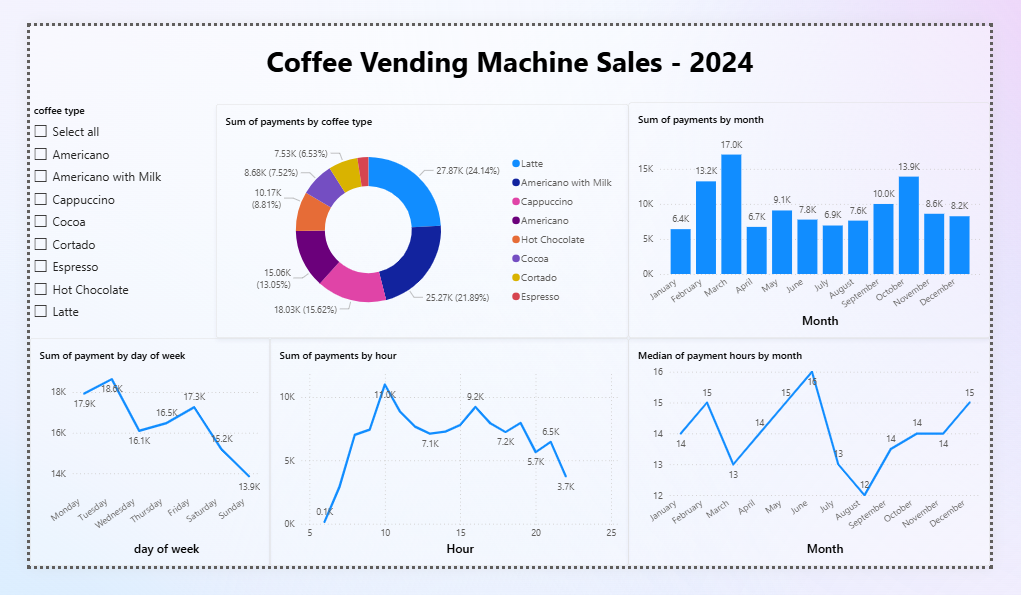

This screenshot's page, from the dashboard's own definition file:
{"tool":"powerbi","page":{"name":"Sales - 2024 - page 1","canvas":[1280,720],"ordinal":0},"visuals":[{"type":"columnChart","title":"Sum of payments by month","fields":{"Category":["coffee sales.date.Variation.Date Hierarchy.Month"],"Y":["Sum(coffee sales.money)"]},"box":[798,102,482,314],"z":0},{"type":"listSlicer","fields":{"Values":["coffee sales.coffee_name"]},"box":[0,102,213.7,314.1],"z":1000},{"type":"lineChart","title":"Median of payment hours by month","fields":{"Category":["coffee sales.date.Variation.Date Hierarchy.Month"],"Y":["Median(coffee sales.hour)"]},"box":[798,416,482,304],"z":2000},{"type":"textbox","box":[0,16.7,1280,66.7],"z":3000},{"type":"donutChart","title":"Sum of payments by coffee type","fields":{"Category":["coffee sales.coffee_name"],"Y":["Sum(coffee sales.money)"]},"box":[248,104,550,312],"z":4000},{"type":"lineChart","fields":{"Y":["Sum(coffee sales.payment)"],"Category":["coffee sales.day of week"]},"box":[0,416,320,304],"z":4001},{"type":"lineChart","title":"Sum of payments by hour","fields":{"Category":["coffee sales.hour"],"Y":["Sum(coffee sales.money)"]},"box":[320,416,478,304],"z":4002}]}

Visuals, with their boxes on the page's 1280x720 design canvas (x1, y1, x2, y2). These are canvas units, not pixel positions in the 1021x595 screenshot, which may show the page scaled, cropped or inside an application window:
"Sum of payments by month" columnChart: (x1=798, y1=102, x2=1280, y2=416)
listSlicer - coffee sales.coffee_name: (x1=0, y1=102, x2=214, y2=416)
"Median of payment hours by month" lineChart: (x1=798, y1=416, x2=1280, y2=720)
textbox: (x1=0, y1=17, x2=1280, y2=83)
"Sum of payments by coffee type" donutChart: (x1=248, y1=104, x2=798, y2=416)
lineChart - Sum(coffee sales.payment) x coffee sales.day of week: (x1=0, y1=416, x2=320, y2=720)
"Sum of payments by hour" lineChart: (x1=320, y1=416, x2=798, y2=720)
